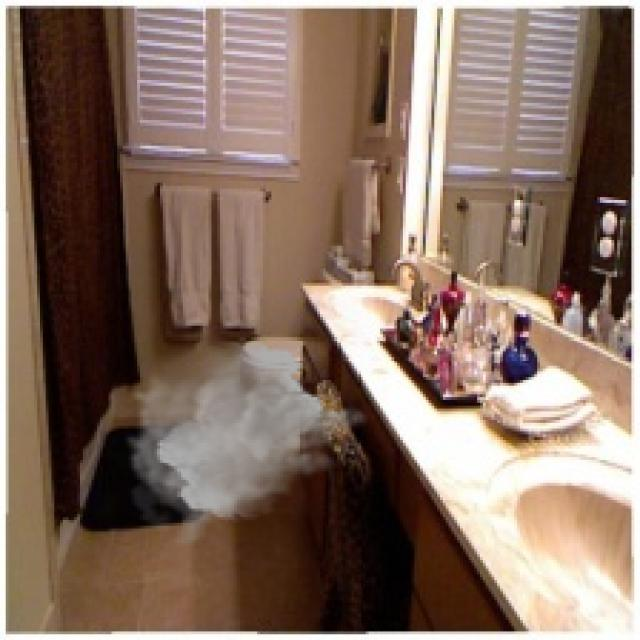smoke: (123, 337, 371, 549)
